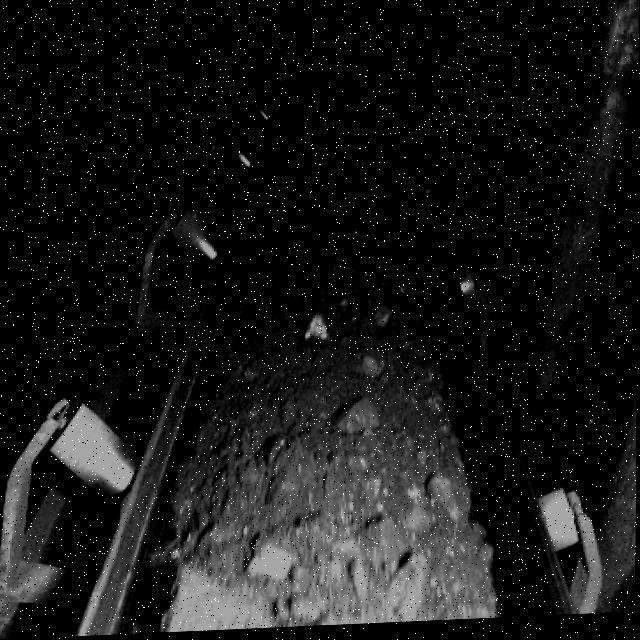large_sized_coal: (153, 563, 278, 635), (328, 399, 379, 437)
